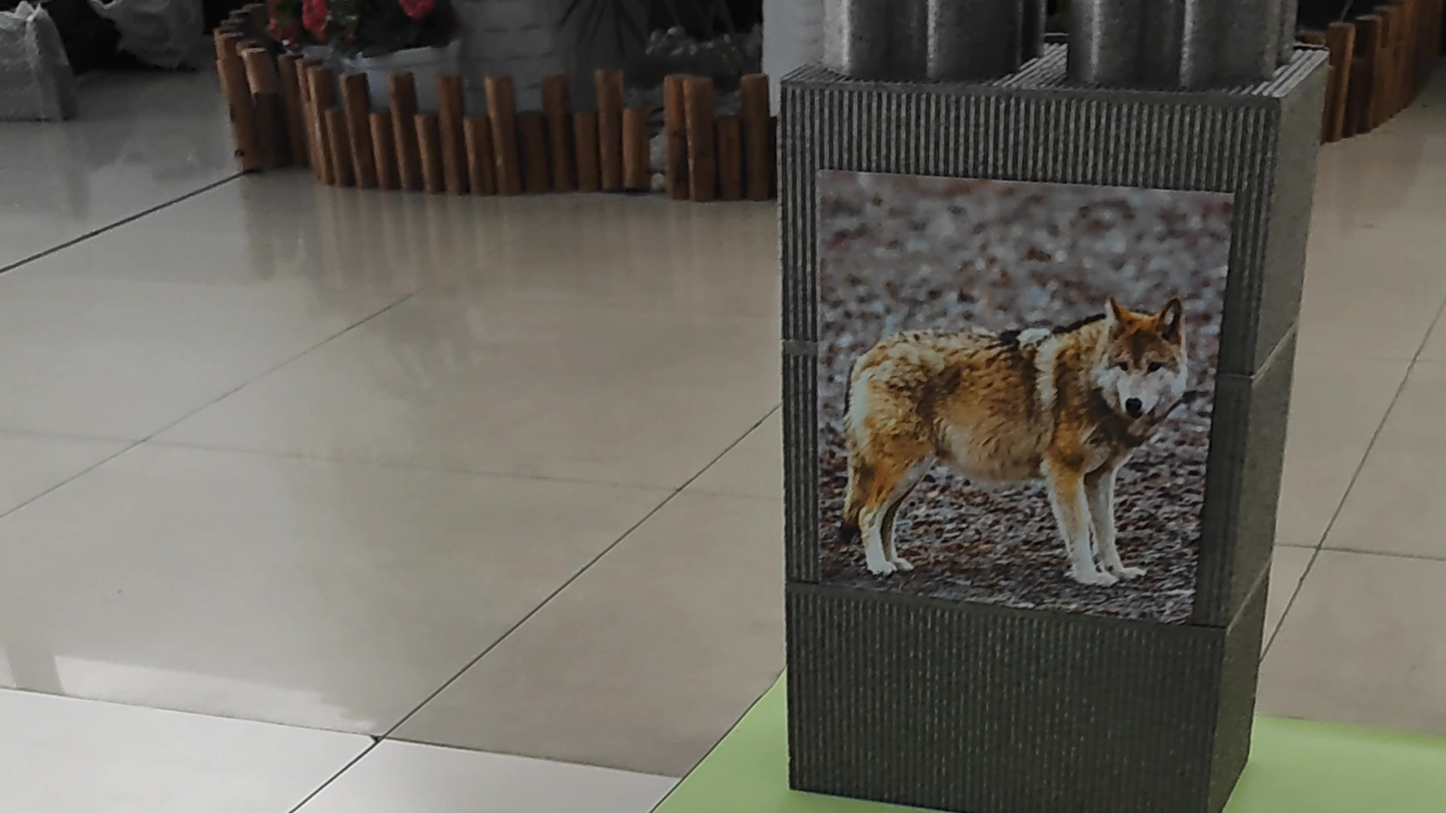wolf: (808, 267, 1206, 620)
